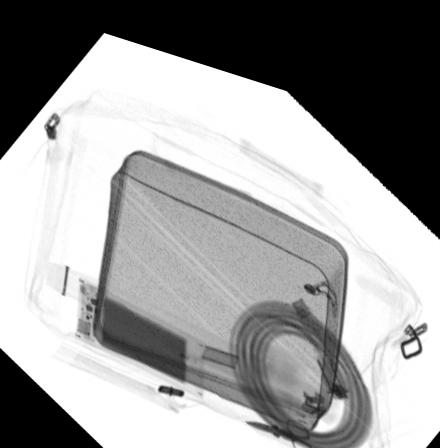Powerbank: (73, 270, 205, 387)
Scissors: (244, 400, 313, 440)
